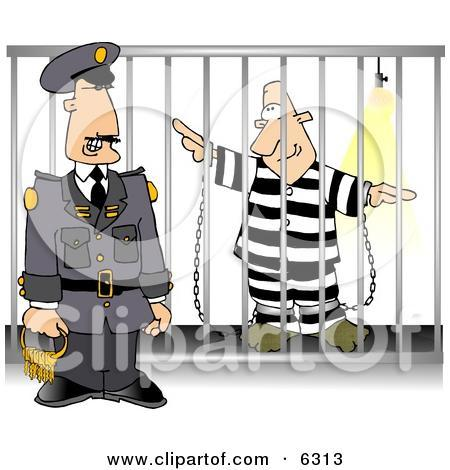person: (158, 64, 419, 362), (8, 36, 183, 418)
